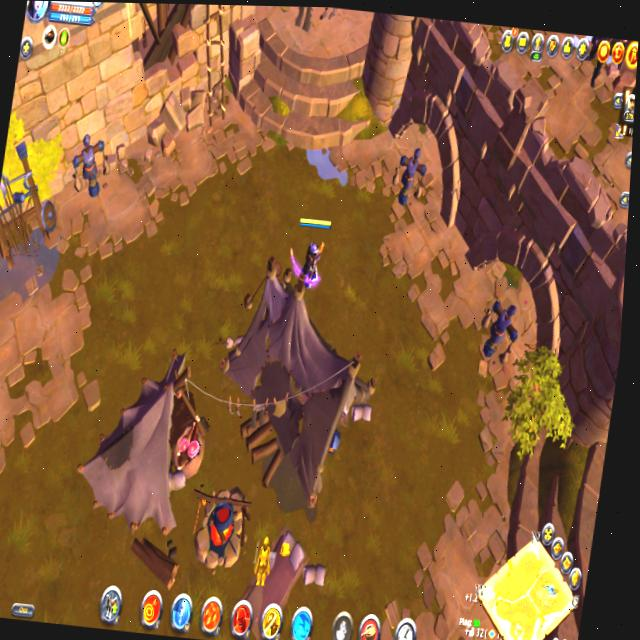red: (281, 212, 336, 295)
